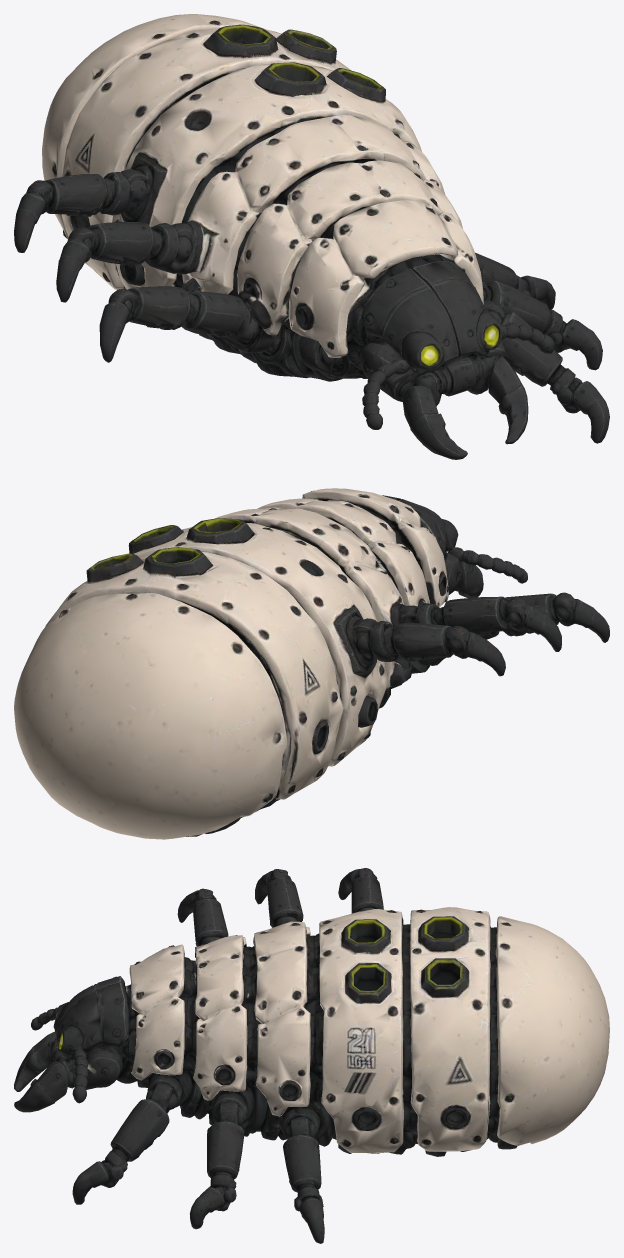
The model's file is larva-grub.glb.
The picture shows the model from 3 angles, top to bottom: view 1: azimuth 30°, elevation 25°; view 2: azimuth 150°, elevation 25°; view 3: azimuth 270°, elevation 25°; orthographic projection. The views are drawn at different scales.
Bounding box in the file's own units: 2.87 × 1.43 × 3.4.
1 material, 1 textured.
